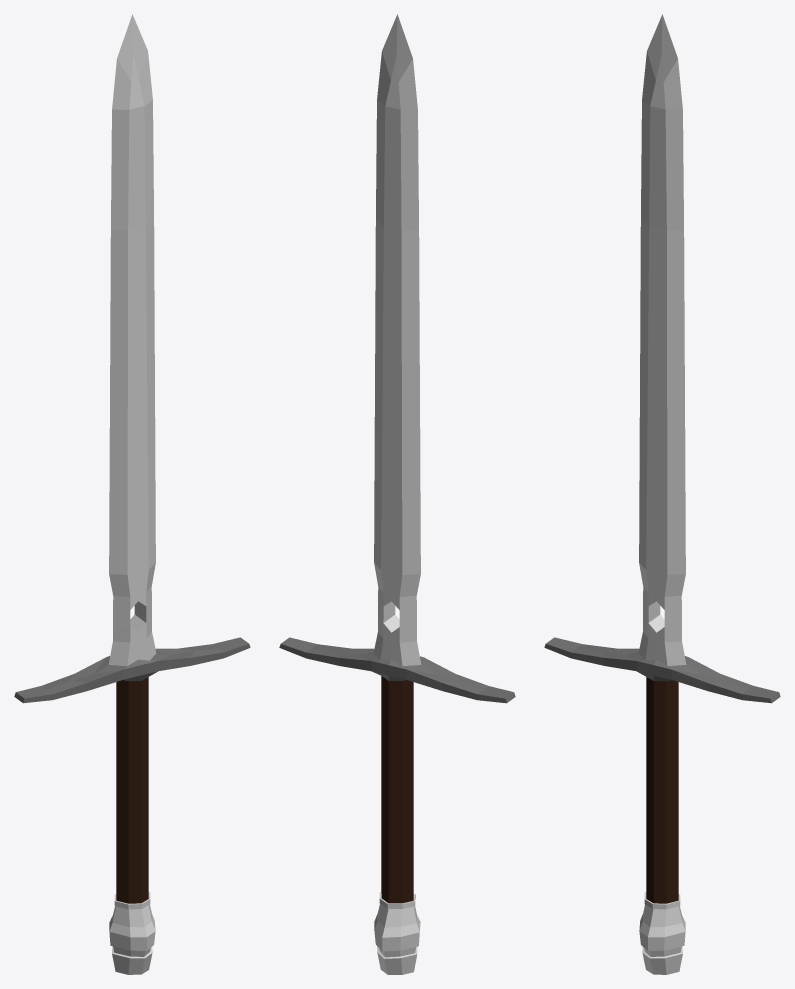
The model's file is onehander_sword.fbx.
The picture shows the model from 3 angles, left to right: view 1: azimuth 30°, elevation 25°; view 2: azimuth 150°, elevation 25°; view 3: azimuth 330°, elevation 25°; orthographic projection.
Parts seen in each view (by area): view 1: OneHander_Sword_Simple; view 2: OneHander_Sword_Simple; view 3: OneHander_Sword_Simple.
Part boxes in pixels (<box>): OneHander_Sword_Simple: <box>14,14,250,974</box>; OneHander_Sword_Simple: <box>279,14,515,974</box>; OneHander_Sword_Simple: <box>544,14,780,974</box>.
Size of the model in its own units: 30.11 by 121 by 6.87.
